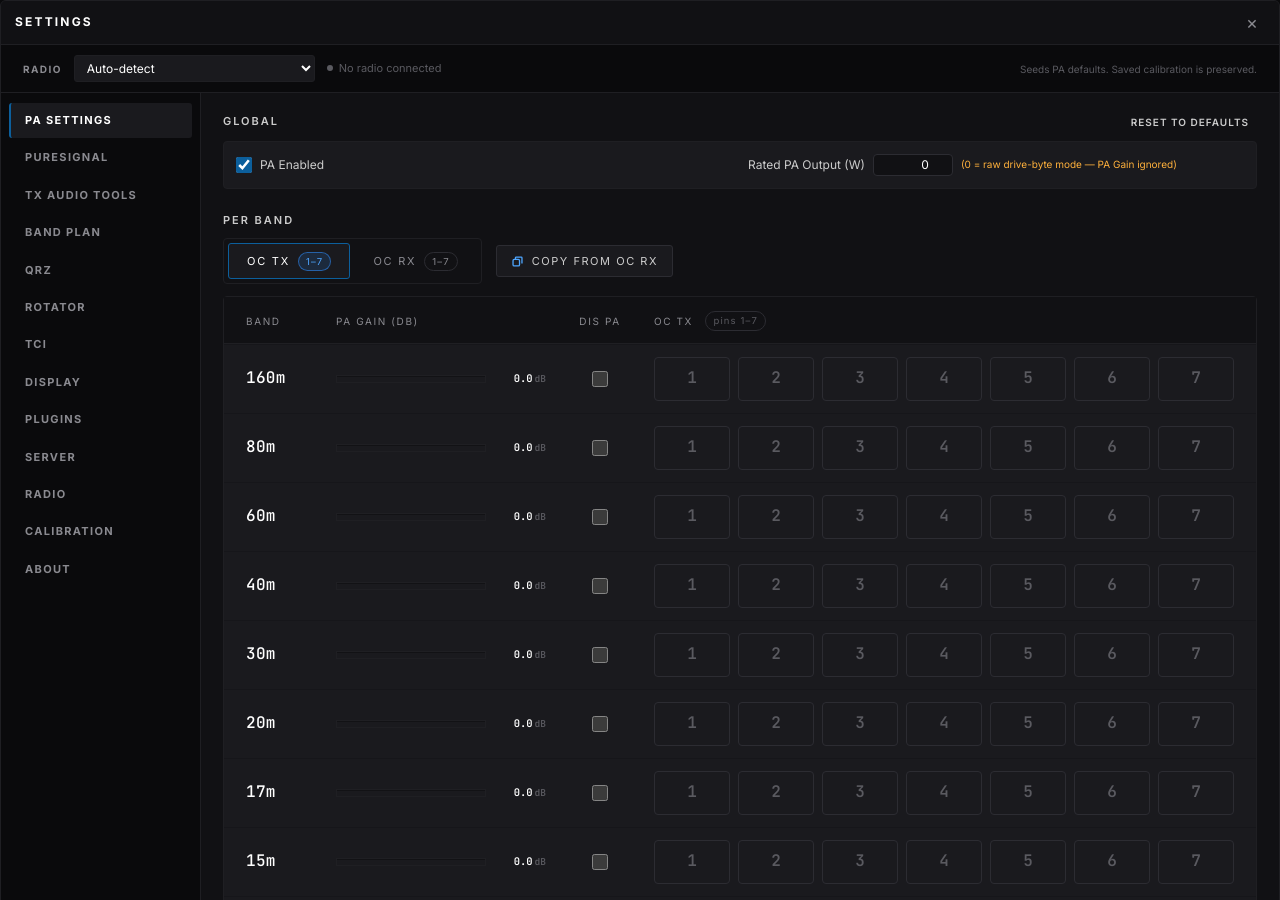
it: SettingsView — RADIO tab gating › shows the RADIO tab and renders the panel on click when hasHl2OptionalToggles is true
The width and height of the screenshot is (1280, 900).
Click the tab "RADIO".
click(100, 495)  # box 9,477 -> 192,512
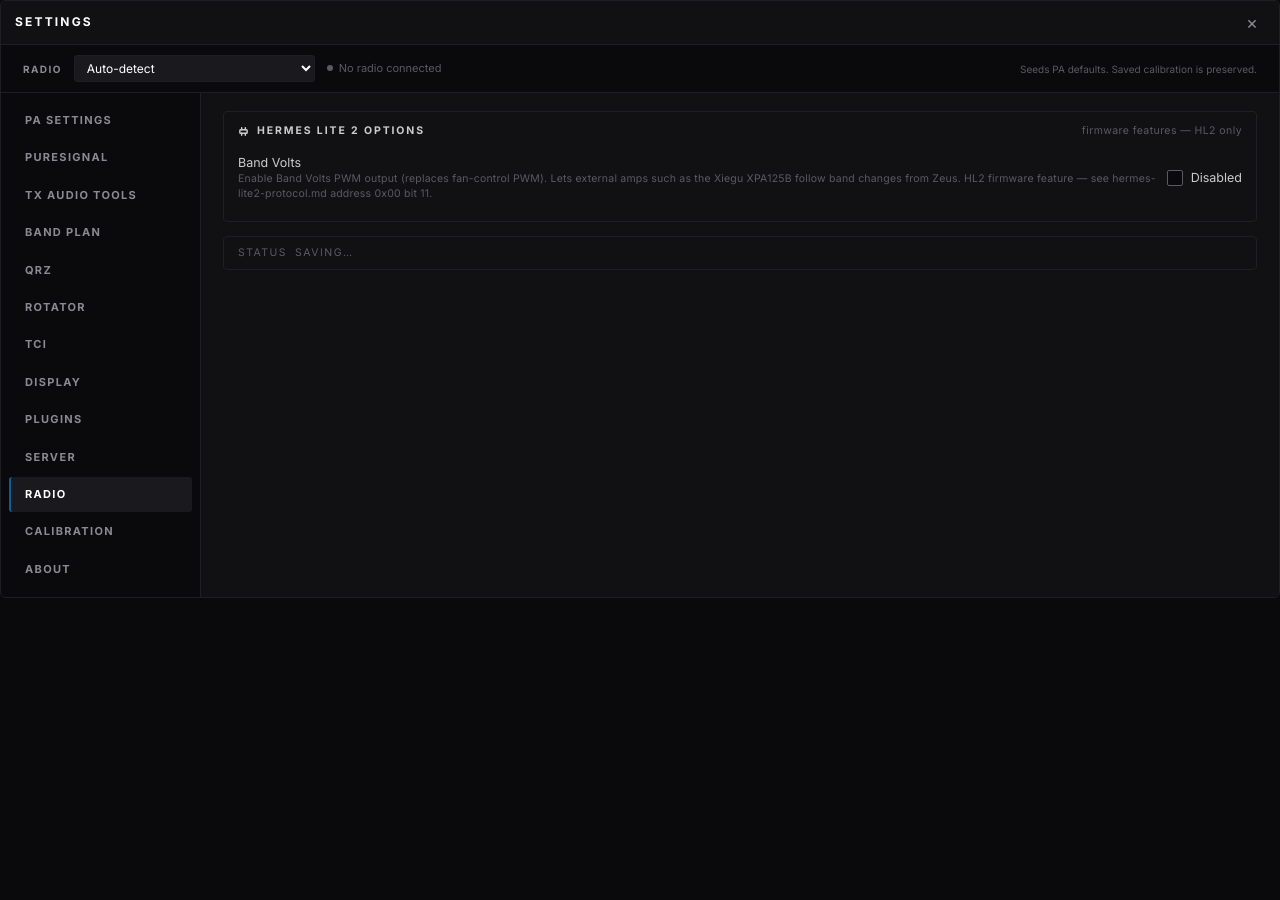
Now the text "Band Volts" is shown, box 238,172 -> 1156,200
Now the text "Enable Band Volts PWM output" is shown, box 238,172 -> 1156,200
